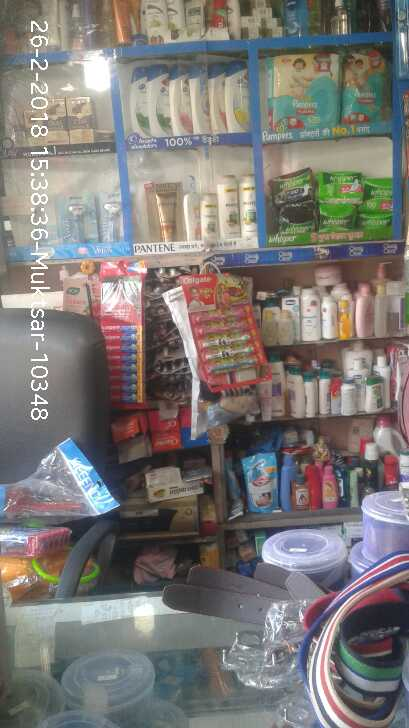venus: (58, 194, 99, 242), (99, 189, 129, 242)
